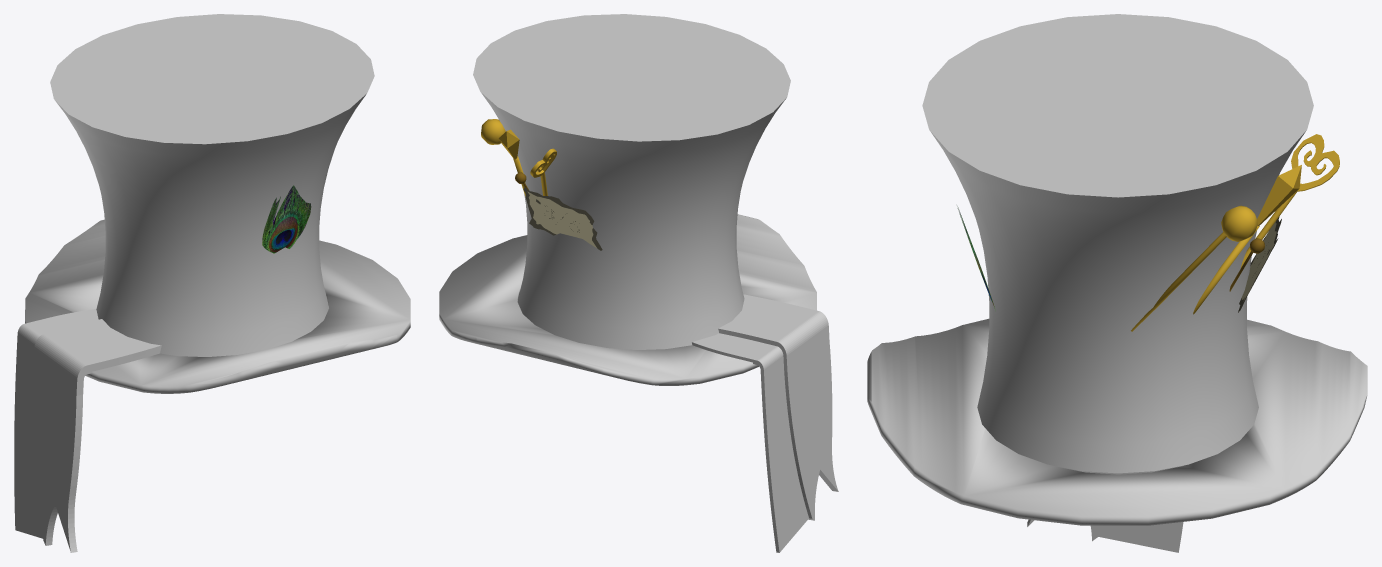
The picture shows the model from 3 angles, left to right: view 1: azimuth 30°, elevation 25°; view 2: azimuth 150°, elevation 25°; view 3: azimuth 270°, elevation 25°; orthographic projection. The views are drawn at different scales.
Visible parts, largest first — view 1: Componente_1, group_0, Componente_5, Componente_9; view 2: Componente_1, group_0, Componente_5, Componente_6 (×2), SimpleSphere01; view 3: Componente_1, group_0, Componente_5, Componente_3 (×2), Componente_7, SimpleSphere01, Componente_4, Componente_6.
Part boxes in pixels (x1,y1,x2,y2): Componente_1: [50, 14, 374, 356]; group_0: [25, 219, 410, 393]; Componente_5: [14, 309, 161, 552]; Componente_9: [262, 185, 311, 253]; Componente_1: [473, 14, 790, 349]; group_0: [439, 214, 816, 385]; Componente_5: [692, 294, 838, 552]; Componente_6 (×2): [523, 187, 602, 250]; SimpleSphere01: [481, 119, 505, 144]; Componente_1: [922, 14, 1313, 473]; group_0: [867, 318, 1367, 525]; Componente_5: [1027, 465, 1183, 552]; Componente_3 (×2): [1193, 165, 1301, 314]; Componente_7: [1291, 134, 1339, 191]; SimpleSphere01: [1221, 205, 1257, 241]; Componente_4: [1131, 232, 1226, 331]; Componente_6: [1241, 221, 1276, 301].
Bounding box in the file's own units: 93.72 × 89.32 × 109.
